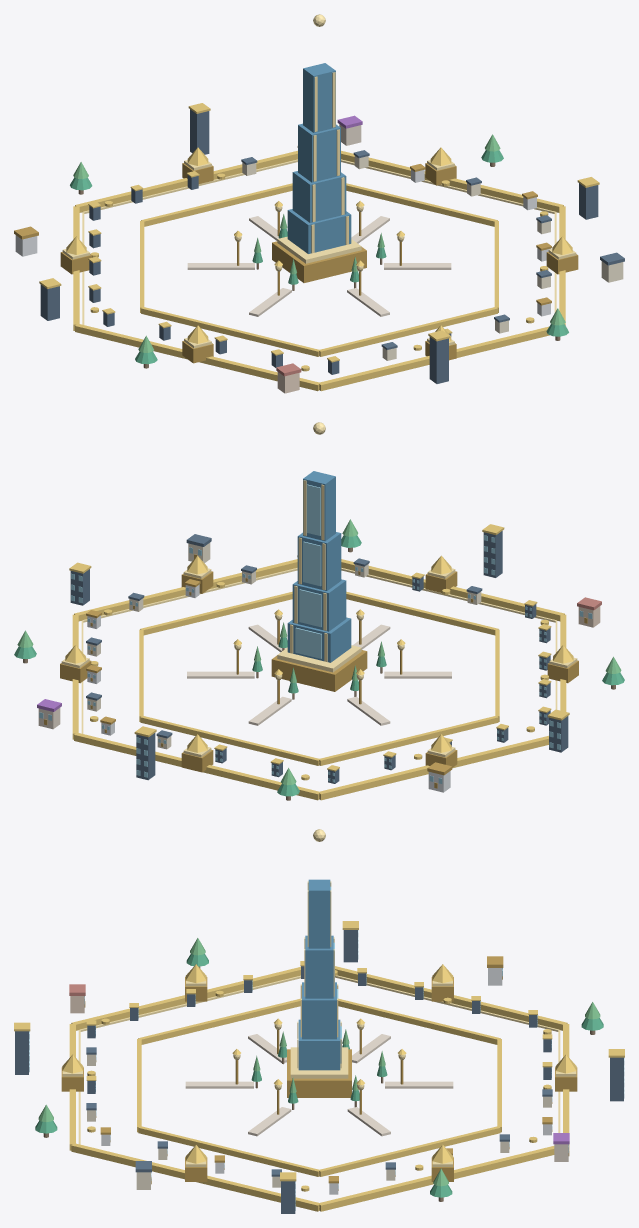
Rendered from environment_detail.glb.
The picture shows the model from 3 angles, top to bottom: view 1: azimuth 30°, elevation 25°; view 2: azimuth 150°, elevation 25°; view 3: azimuth 270°, elevation 25°; orthographic projection.
Parts seen in each view (by area): view 1: DECOR_PERIMETER_GOLD, DECOR_TOWER_GLASS_DARK, DECOR_INNER_RAIL_GOLD, DECOR_OFFICE_NAVY, DECOR_GATEWAY_GOLD_DARK, DECOR_BRIDGES_STONE_LIGHT, DECOR_TOWERPLINTH_GOLD_DARK, DECOR_HOUSES_CREAM, DECOR_PERIMETER_GOLD_LIGHT, DECOR_TREES_TREE, DECOR_GATEWAY_GOLD, DECOR_OFFICE_GOLD (+7 smaller); view 2: DECOR_PERIMETER_GOLD, DECOR_INNER_RAIL_GOLD, DECOR_TOWER_GLASS_DARK, DECOR_OFFICE_NAVY, DECOR_TOWER_GLASS_GLASS, DECOR_GATEWAY_GOLD_DARK, DECOR_BRIDGES_STONE_LIGHT, DECOR_TOWERPLINTH_GOLD_DARK, DECOR_GATEWAY_GOLD, DECOR_PERIMETER_GOLD_LIGHT, DECOR_TREES_TREE, DECOR_OFFICE_GOLD (+9 smaller); view 3: DECOR_PERIMETER_GOLD, DECOR_INNER_RAIL_GOLD, DECOR_TOWER_GLASS_DARK, DECOR_OFFICE_NAVY, DECOR_BRIDGES_STONE_LIGHT, DECOR_GATEWAY_GOLD_DARK, DECOR_PERIMETER_GOLD_LIGHT, DECOR_GATEWAY_GOLD, DECOR_TREES_TREE, DECOR_TOWERPLINTH_GOLD_DARK, DECOR_OFFICE_GOLD, DECOR_TREES_TREE_ALT (+8 smaller).
Boxes of the visible parts, <box> form: DECOR_PERIMETER_GOLD: <box>73,150,565,391</box>; DECOR_TOWER_GLASS_DARK: <box>287,63,351,253</box>; DECOR_INNER_RAIL_GOLD: <box>140,183,498,356</box>; DECOR_OFFICE_NAVY: <box>40,109,598,383</box>; DECOR_GATEWAY_GOLD_DARK: <box>60,163,578,363</box>; DECOR_BRIDGES_STONE_LIGHT: <box>187,216,451,316</box>; DECOR_TOWERPLINTH_GOLD_DARK: <box>272,241,366,282</box>; DECOR_HOUSES_CREAM: <box>242,155,623,360</box>; DECOR_PERIMETER_GOLD_LIGHT: <box>82,159,556,324</box>; DECOR_TREES_TREE: <box>70,150,568,364</box>; DECOR_GATEWAY_GOLD: <box>66,147,572,343</box>; DECOR_OFFICE_GOLD: <box>39,103,599,362</box>; DECOR_PERIMETER_GOLD: <box>72,559,566,800</box>; DECOR_INNER_RAIL_GOLD: <box>139,591,499,765</box>; DECOR_TOWER_GLASS_DARK: <box>287,471,351,662</box>; DECOR_OFFICE_NAVY: <box>70,531,568,783</box>; DECOR_TOWER_GLASS_GLASS: <box>295,484,321,658</box>; DECOR_GATEWAY_GOLD_DARK: <box>60,571,578,772</box>; DECOR_BRIDGES_STONE_LIGHT: <box>187,624,451,725</box>; DECOR_TOWERPLINTH_GOLD_DARK: <box>271,650,367,691</box>; DECOR_GATEWAY_GOLD: <box>65,555,573,752</box>; DECOR_PERIMETER_GOLD_LIGHT: <box>81,568,557,733</box>; DECOR_TREES_TREE: <box>14,535,624,796</box>; DECOR_OFFICE_GOLD: <box>69,524,569,771</box>; DECOR_PERIMETER_GOLD: <box>69,966,569,1211</box>; DECOR_INNER_RAIL_GOLD: <box>137,998,501,1176</box>; DECOR_TOWER_GLASS_DARK: <box>298,879,340,1070</box>; DECOR_OFFICE_NAVY: <box>15,930,623,1213</box>; DECOR_BRIDGES_STONE_LIGHT: <box>185,1034,453,1136</box>; DECOR_GATEWAY_GOLD_DARK: <box>61,977,577,1181</box>; DECOR_PERIMETER_GOLD_LIGHT: <box>78,975,560,1144</box>; DECOR_GATEWAY_GOLD: <box>62,964,576,1163</box>; DECOR_TREES_TREE: <box>35,953,603,1197</box>; DECOR_TOWERPLINTH_GOLD_DARK: <box>287,1049,351,1097</box>; DECOR_OFFICE_GOLD: <box>14,921,624,1181</box>; DECOR_TREES_TREE_ALT: <box>38,938,600,1186</box>.
Size of the model in its own units: 21.45 by 10.1 by 21.45.
